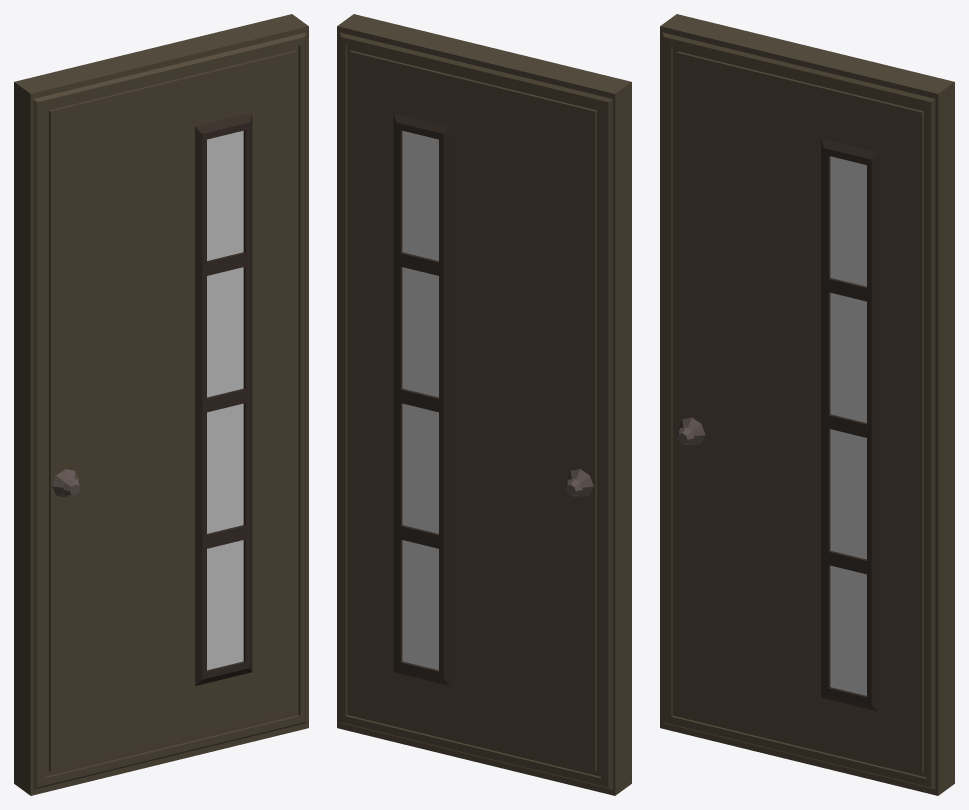
The model's file is Door_6.glb.
3 renders of one model, left to right at view 1: azimuth 30°, elevation 25°; view 2: azimuth 150°, elevation 25°; view 3: azimuth 330°, elevation 25°, orthographic.
Visible parts, largest first — view 1: Door_6; view 2: Door_6; view 3: Door_6.
Boxes of the visible parts, bbox=[...] form: Door_6: bbox=[14, 14, 308, 795]; Door_6: bbox=[337, 14, 631, 795]; Door_6: bbox=[660, 14, 954, 795].
Size of the model in its own units: 0.522 by 1.26 by 0.1263.
